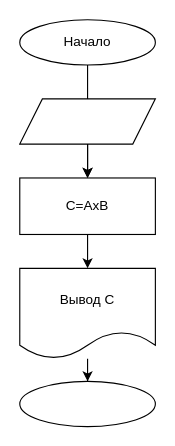
Image size: 175x446. Some labels were removed from this diagram. Here are the shapes that lost their labels. From the top down, the centre of each, then its label:
At (87,121): "Ввод двух чисел А и В".
At (87,403): "Конец".
